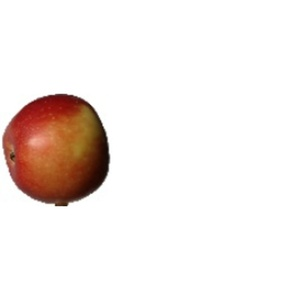maçã braeburn: (1, 97, 114, 208)
